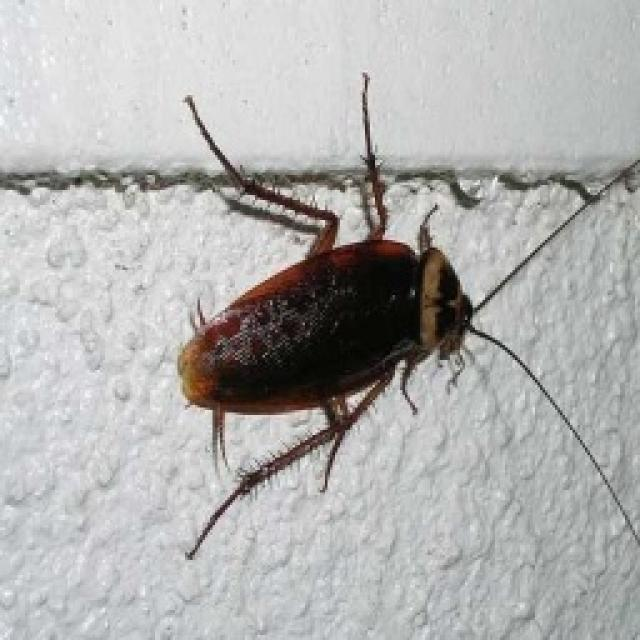cockroach: (127, 76, 598, 570)
